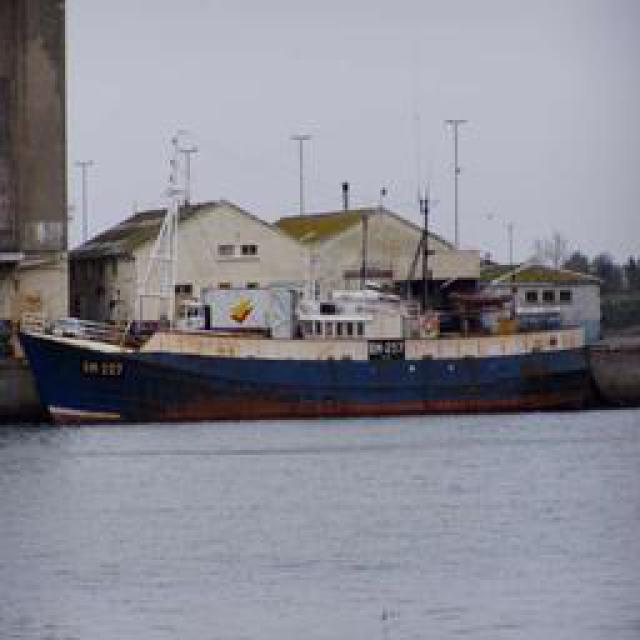Ship: (7, 245, 625, 420)
